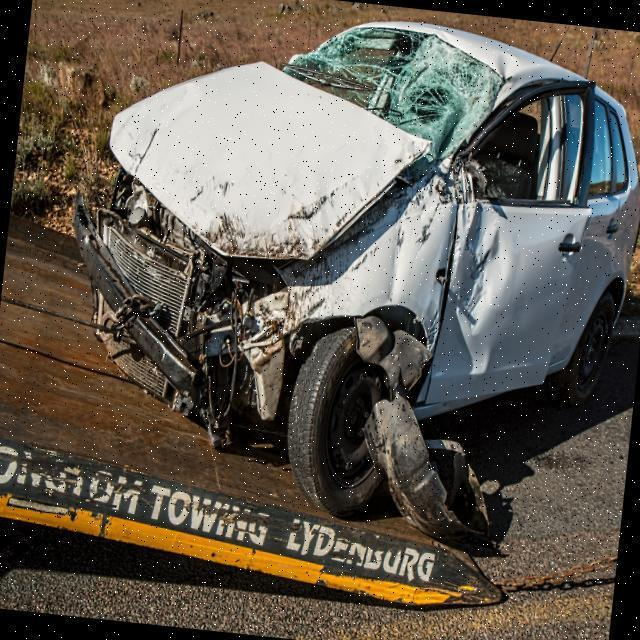accident: (43, 0, 640, 547)
